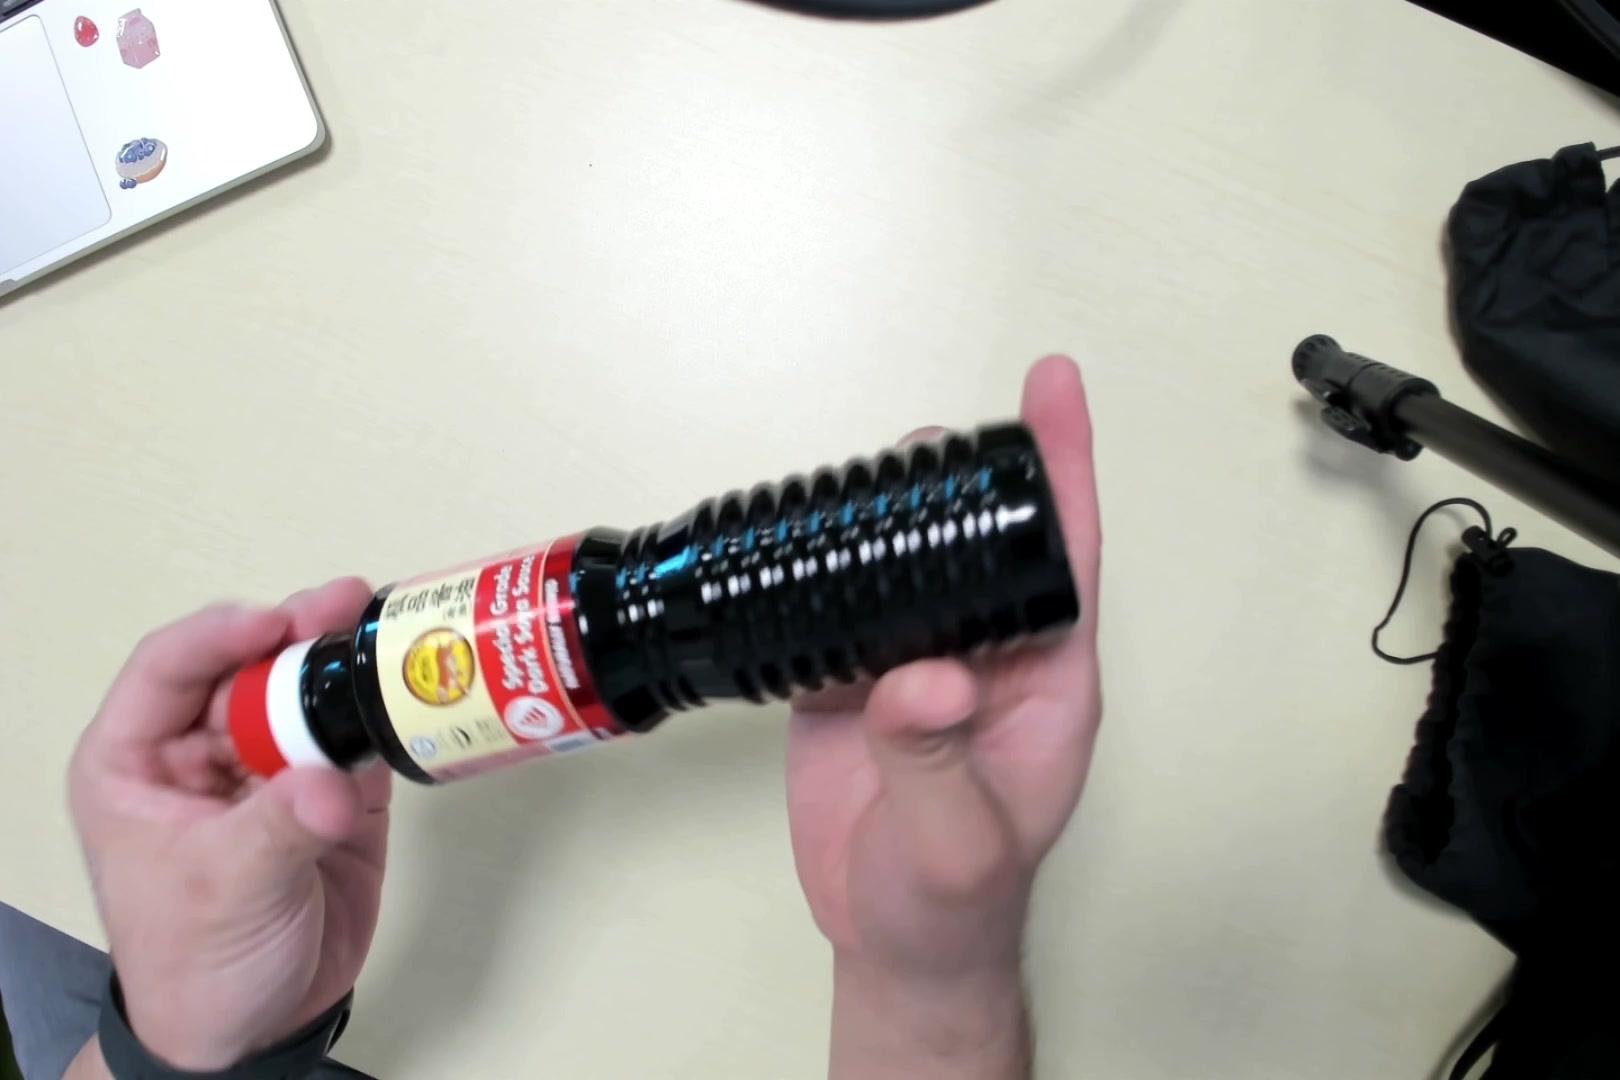DarkSoySauce_300-399g_Halal_NonHealthy: (193, 419, 1073, 777)
